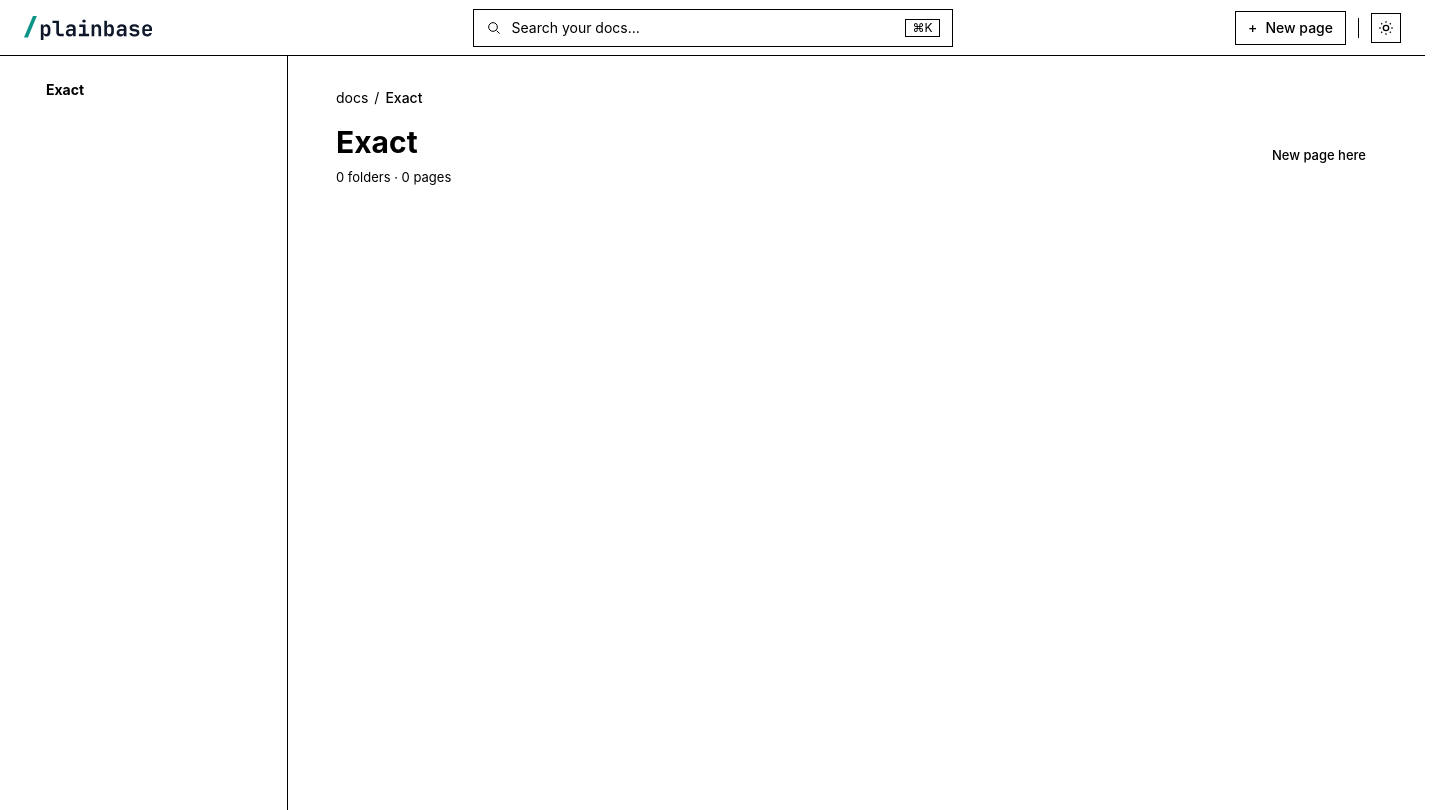
Test: folder landing views (ADR-0003) › starts creation in the exact docs folder 'guides'
The image size is (1440, 810).
Expected: the element showing "docs / Exact Exact 0 folders · 0 pages New page here" is shown, [336,88,1376,188]
Expected: the text "0 folders · 0 pages" is shown, [336,168,451,188]
Click the link "New page here" at (1319, 155), box [1272,147,1366,163]
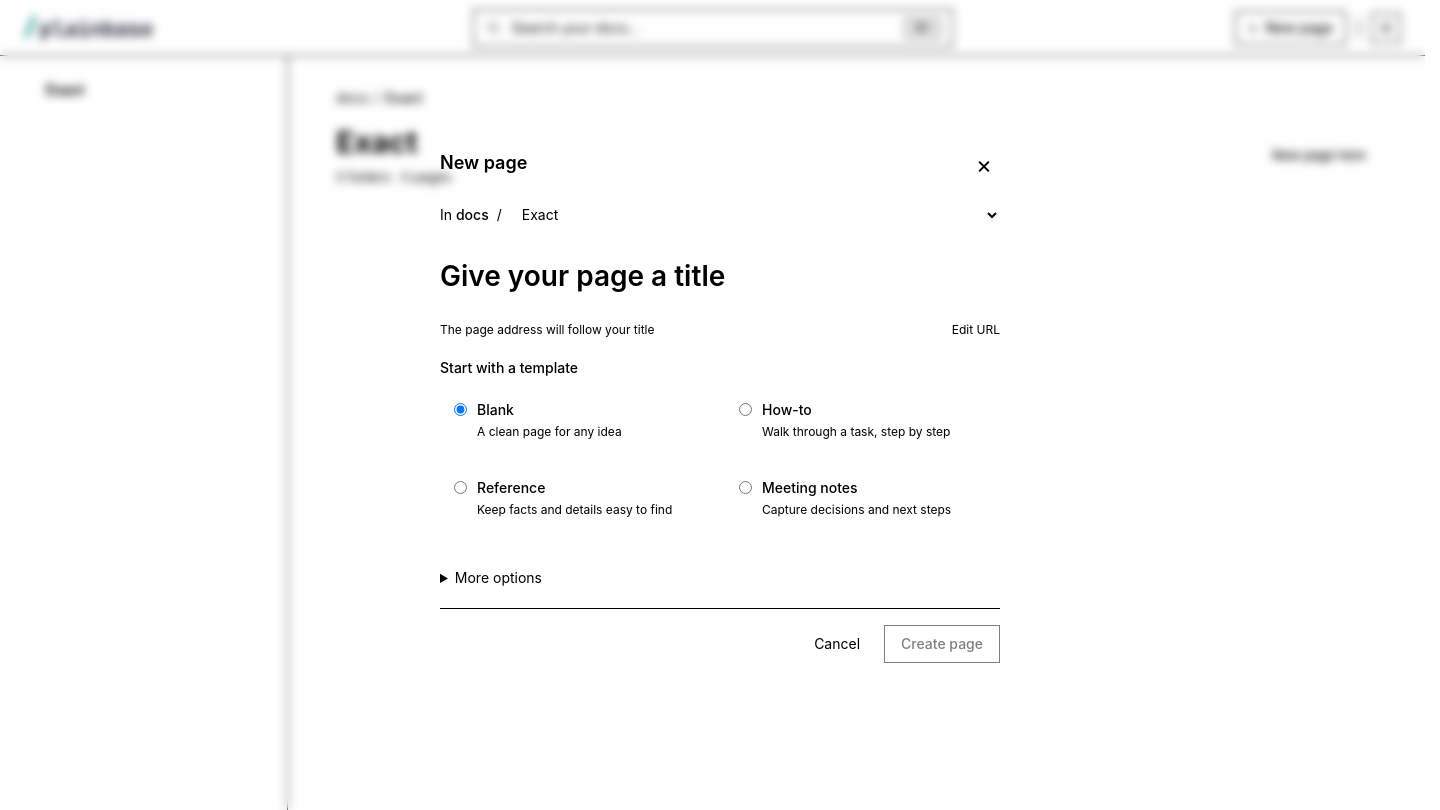
Expected: the link "docs" is shown, [336,89,368,106]
Expected: the dialog "New page" is shown, [416,123,1024,687]
